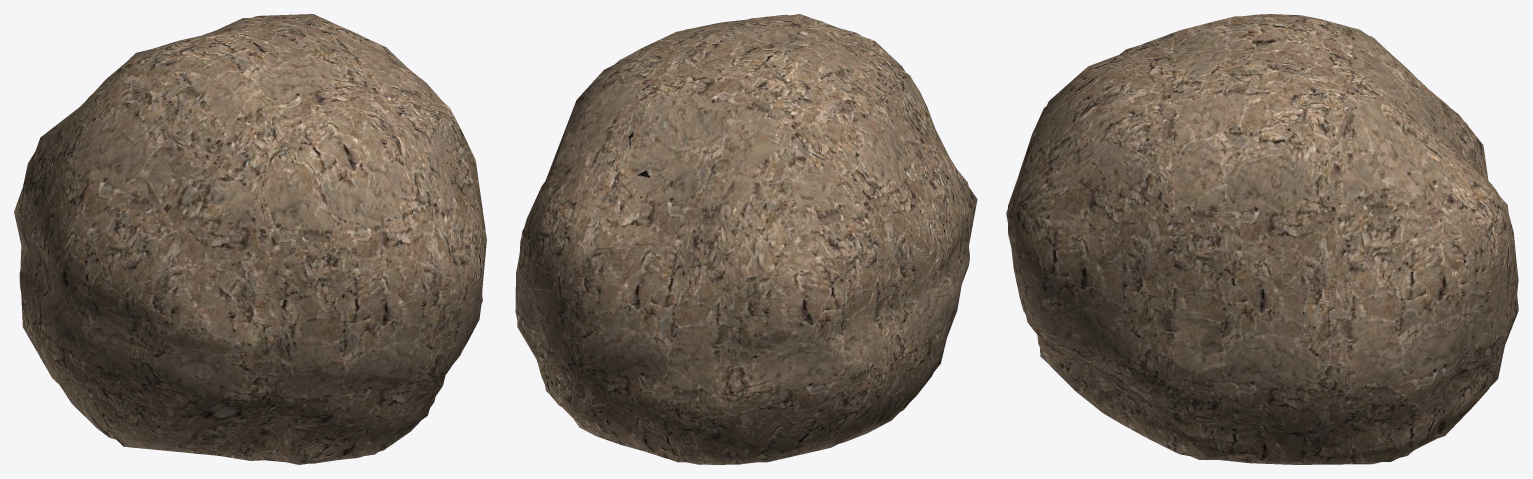
File: rock-2.glb
The picture shows the model from 3 angles, left to right: view 1: azimuth 30°, elevation 25°; view 2: azimuth 150°, elevation 25°; view 3: azimuth 270°, elevation 25°; orthographic projection. The views are drawn at different scales.
Parts seen in each view (by area): view 1: rock, rock_far; view 2: rock, rock_far; view 3: rock, rock_far.
Part boxes in pixels (left/top/right/bottom): rock: left=17, top=18, right=486, bottom=464; rock_far: left=14, top=14, right=486, bottom=463; rock: left=515, top=14, right=973, bottom=464; rock_far: left=517, top=14, right=977, bottom=462; rock: left=1008, top=14, right=1518, bottom=464; rock_far: left=1006, top=16, right=1518, bottom=461.
Bounding box in the file's own units: 1.79 × 1.54 × 2.01.
Materials: 1 (1 with a texture image).
